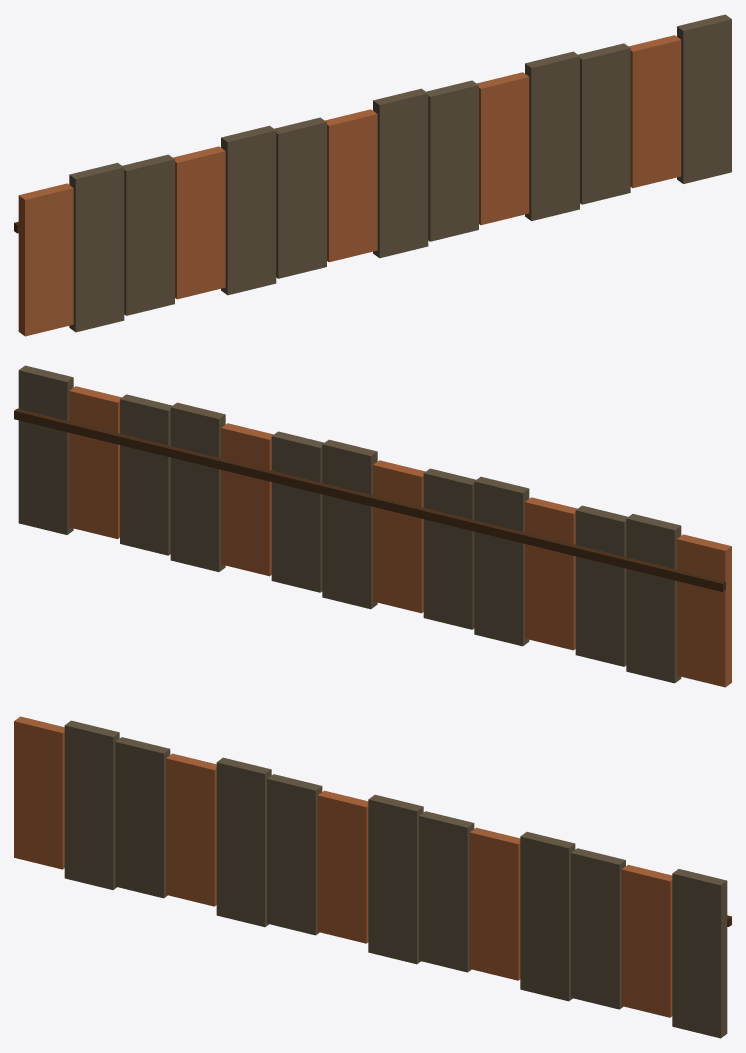
File: gnome_wall.glb
3 views of the same model, one above another, from view 1: azimuth 30°, elevation 25°; view 2: azimuth 150°, elevation 25°; view 3: azimuth 330°, elevation 25° (orthographic).
Parts seen in each view (by area): view 1: gnome_wall; view 2: gnome_wall; view 3: gnome_wall.
Boxes of the visible parts, x1,y1,x2,y2 form: gnome_wall: [14, 14, 731, 336]; gnome_wall: [14, 365, 731, 687]; gnome_wall: [14, 716, 731, 1038].
Size of the model in its own units: 6.25 by 1.29 by 0.155.
